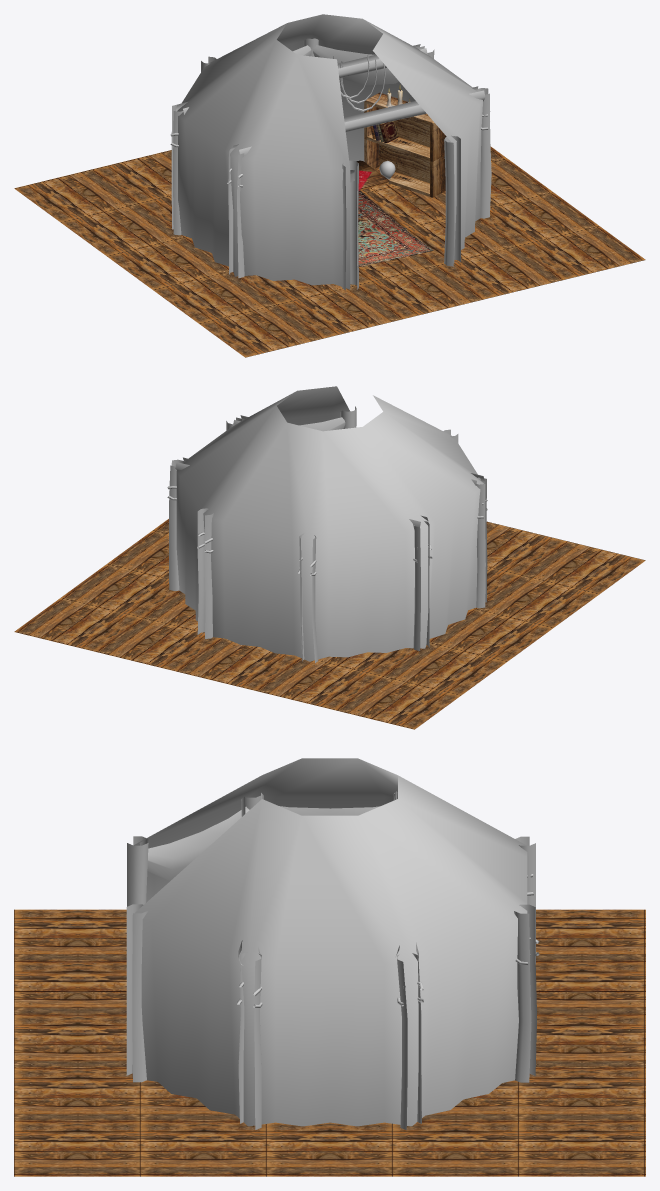
The model's file is Tent.fbx.
3 views of the same model, one above another, from view 1: azimuth 30°, elevation 25°; view 2: azimuth 150°, elevation 25°; view 3: azimuth 270°, elevation 25° (orthographic). The views are drawn at different scales.
Visible parts, largest first — view 1: Walls, Ground, Column, Book_Shelf, Carpet, Ropes, Table; view 2: Walls, Ground, Column; view 3: Walls, Ground, Column.
Boxes of the visible parts, x1=… form: Walls: x1=177, y1=14, x2=482, y2=289; Ground: x1=14, y1=146, x2=645, y2=357; Column: x1=171, y1=38, x2=491, y2=290; Book_Shelf: x1=364, y1=92, x2=446, y2=197; Carpet: x1=358, y1=190, x2=433, y2=266; Ropes: x1=170, y1=54, x2=490, y2=187; Table: x1=356, y1=160, x2=388, y2=221; Walls: x1=176, y1=386, x2=483, y2=661; Ground: x1=14, y1=519, x2=645, y2=729; Column: x1=169, y1=406, x2=487, y2=662; Walls: x1=132, y1=758, x2=527, y2=1126; Ground: x1=14, y1=909, x2=645, y2=1176; Column: x1=126, y1=793, x2=536, y2=1130.
Size of the model in its own units: 900 by 415 by 900.
